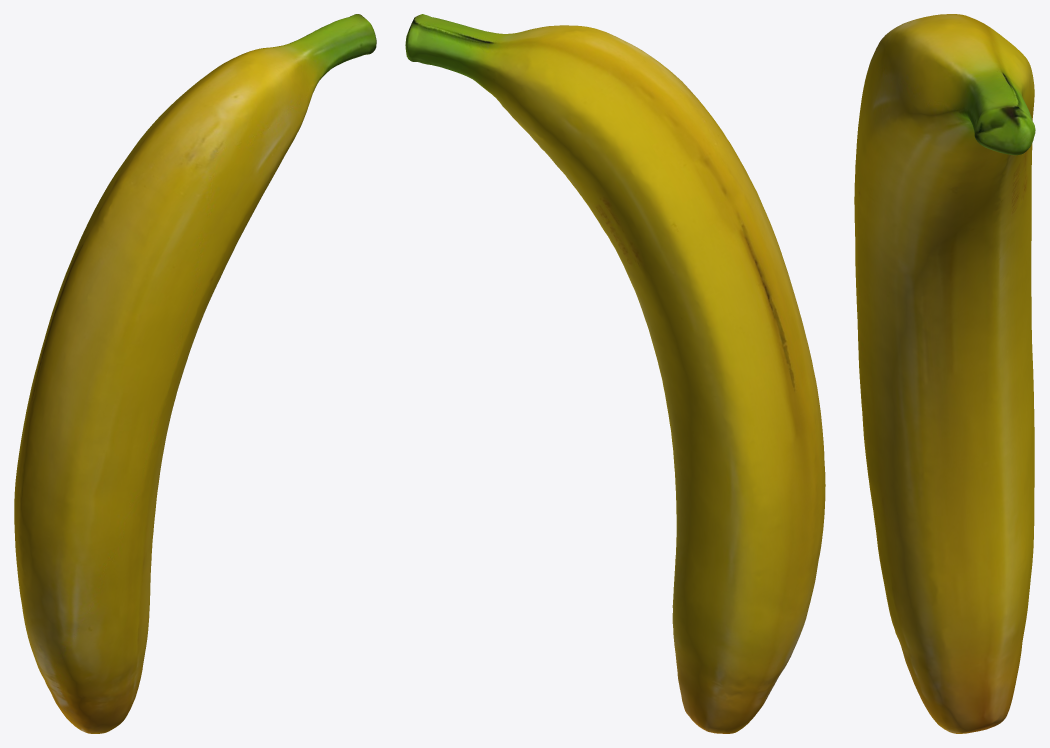
Rendered from banana.obj.
The picture shows the model from 3 angles, left to right: view 1: azimuth 30°, elevation 25°; view 2: azimuth 150°, elevation 25°; view 3: azimuth 270°, elevation 25°; orthographic projection. The views are drawn at different scales.
Bounding box in the file's own units: 0.1089 × 0.1784 × 0.0367.
1 material, 1 textured.
